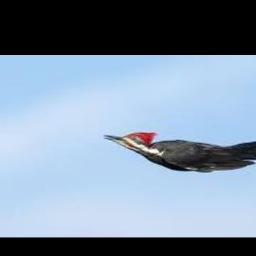Woodpecker: (105, 132, 256, 171)
